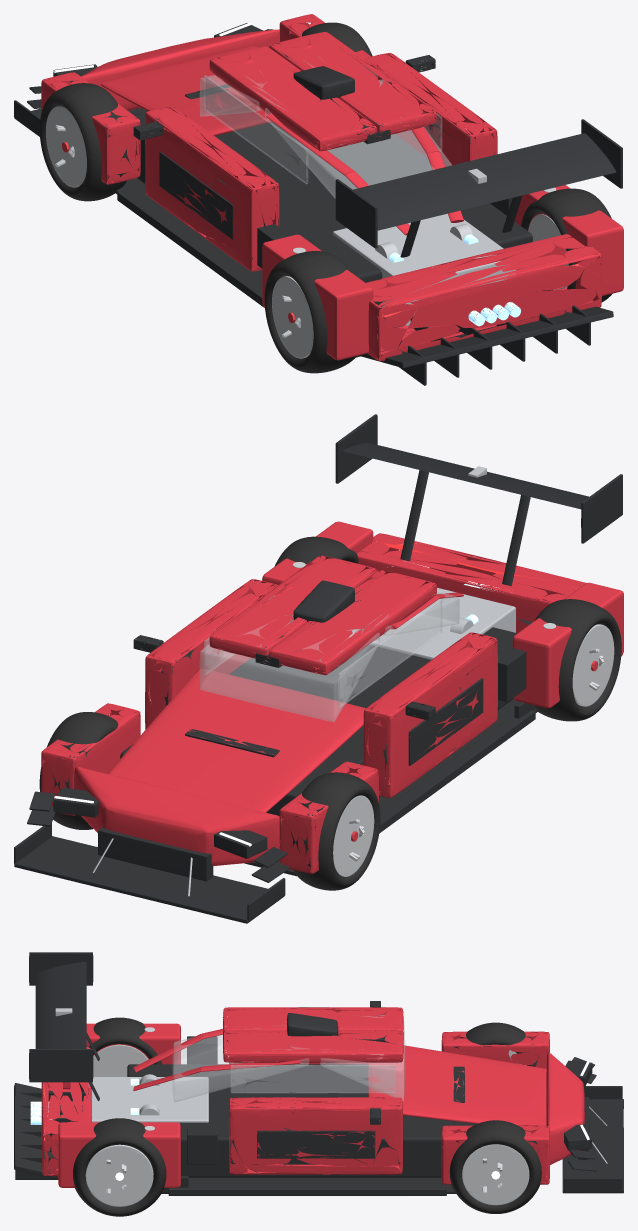
The model's file is complete-gt3_supercar.glb.
The picture shows the model from 3 angles, top to bottom: view 1: azimuth 30°, elevation 25°; view 2: azimuth 150°, elevation 25°; view 3: azimuth 270°, elevation 25°; orthographic projection. The views are drawn at different scales.
Parts seen in each view (by area): view 1: Hypercar_Roof_Canopy, Hypercar_Chassis_Monocoque, Hypercar_Rear_Bumper, Hypercar_Active_Rear_Wing, Hypercar_Door_Butterfly_Left, Hypercar_Wheel_RL, Hypercar_Wheel_FL, Hypercar_Hood_Vented, Hypercar_Rear_Diffuser, Hypercar_Door_Butterfly_Right, Hypercar_Rear_Haunch_Left, Hypercar_Front_Bumper_Fascia (+7 smaller); view 2: Hypercar_Roof_Canopy, Hypercar_Hood_Vented, Hypercar_Front_Bumper_Fascia, Hypercar_Chassis_Monocoque, Hypercar_Door_Butterfly_Left, Hypercar_Front_Splitter, Hypercar_Active_Rear_Wing, Hypercar_Rear_Bumper, Hypercar_Wheel_FL, Hypercar_Wheel_RL, Hypercar_Door_Butterfly_Right, Hypercar_Rear_Haunch_Left (+6 smaller); view 3: Hypercar_Roof_Canopy, Hypercar_Chassis_Monocoque, Hypercar_Door_Butterfly_Right, Hypercar_Hood_Vented, Hypercar_Active_Rear_Wing, Hypercar_Wheel_RR, Hypercar_Wheel_FR, Hypercar_Front_Splitter, Hypercar_Rear_Haunch_Right, Hypercar_Front_Bumper_Fascia, Hypercar_Rocker_Skirt_Right, Hypercar_Rear_Bumper (+6 smaller).
Boxes of the visible parts, bbox=[...] form: Hypercar_Roof_Canopy: bbox=[199, 32, 463, 235]; Hypercar_Chassis_Monocoque: bbox=[115, 112, 532, 357]; Hypercar_Rear_Bumper: bbox=[365, 234, 601, 361]; Hypercar_Active_Rear_Wing: bbox=[335, 119, 622, 257]; Hypercar_Door_Butterfly_Left: bbox=[133, 106, 279, 271]; Hypercar_Wheel_RL: bbox=[264, 251, 356, 373]; Hypercar_Wheel_FL: bbox=[39, 83, 131, 201]; Hypercar_Hood_Vented: bbox=[101, 46, 278, 135]; Hypercar_Rear_Diffuser: bbox=[359, 289, 613, 385]; Hypercar_Door_Butterfly_Right: bbox=[365, 53, 497, 166]; Hypercar_Rear_Haunch_Left: bbox=[257, 224, 373, 360]; Hypercar_Front_Bumper_Fascia: bbox=[53, 22, 279, 110]; Hypercar_Roof_Canopy: bbox=[199, 555, 463, 722]; Hypercar_Hood_Vented: bbox=[108, 668, 365, 812]; Hypercar_Front_Bumper_Fascia: bbox=[53, 766, 281, 881]; Hypercar_Chassis_Monocoque: bbox=[87, 586, 538, 876]; Hypercar_Door_Butterfly_Left: bbox=[363, 632, 497, 797]; Hypercar_Front_Splitter: bbox=[14, 791, 289, 923]; Hypercar_Active_Rear_Wing: bbox=[335, 414, 622, 586]; Hypercar_Rear_Bumper: bbox=[357, 533, 586, 633]; Hypercar_Wheel_FL: bbox=[290, 772, 380, 890]; Hypercar_Wheel_RL: bbox=[534, 599, 621, 721]; Hypercar_Door_Butterfly_Right: bbox=[133, 579, 277, 729]; Hypercar_Rear_Haunch_Left: bbox=[498, 582, 623, 708]; Hypercar_Roof_Canopy: bbox=[133, 1007, 405, 1102]; Hypercar_Chassis_Monocoque: bbox=[90, 1064, 476, 1193]; Hypercar_Door_Butterfly_Right: bbox=[229, 1097, 402, 1174]; Hypercar_Hood_Vented: bbox=[368, 1045, 546, 1125]; Hypercar_Active_Rear_Wing: bbox=[29, 952, 99, 1100]; Hypercar_Wheel_RR: bbox=[73, 1118, 166, 1216]; Hypercar_Wheel_FR: bbox=[449, 1120, 541, 1213]; Hypercar_Front_Splitter: bbox=[562, 1057, 623, 1193]; Hypercar_Rear_Haunch_Right: bbox=[58, 1122, 217, 1187]; Hypercar_Front_Bumper_Fascia: bbox=[546, 1051, 592, 1164]; Hypercar_Rocker_Skirt_Right: bbox=[163, 1176, 446, 1195]; Hypercar_Rear_Bumper: bbox=[30, 1047, 91, 1176].
Size of the model in its own units: 2.11 by 1.27 by 4.38.
